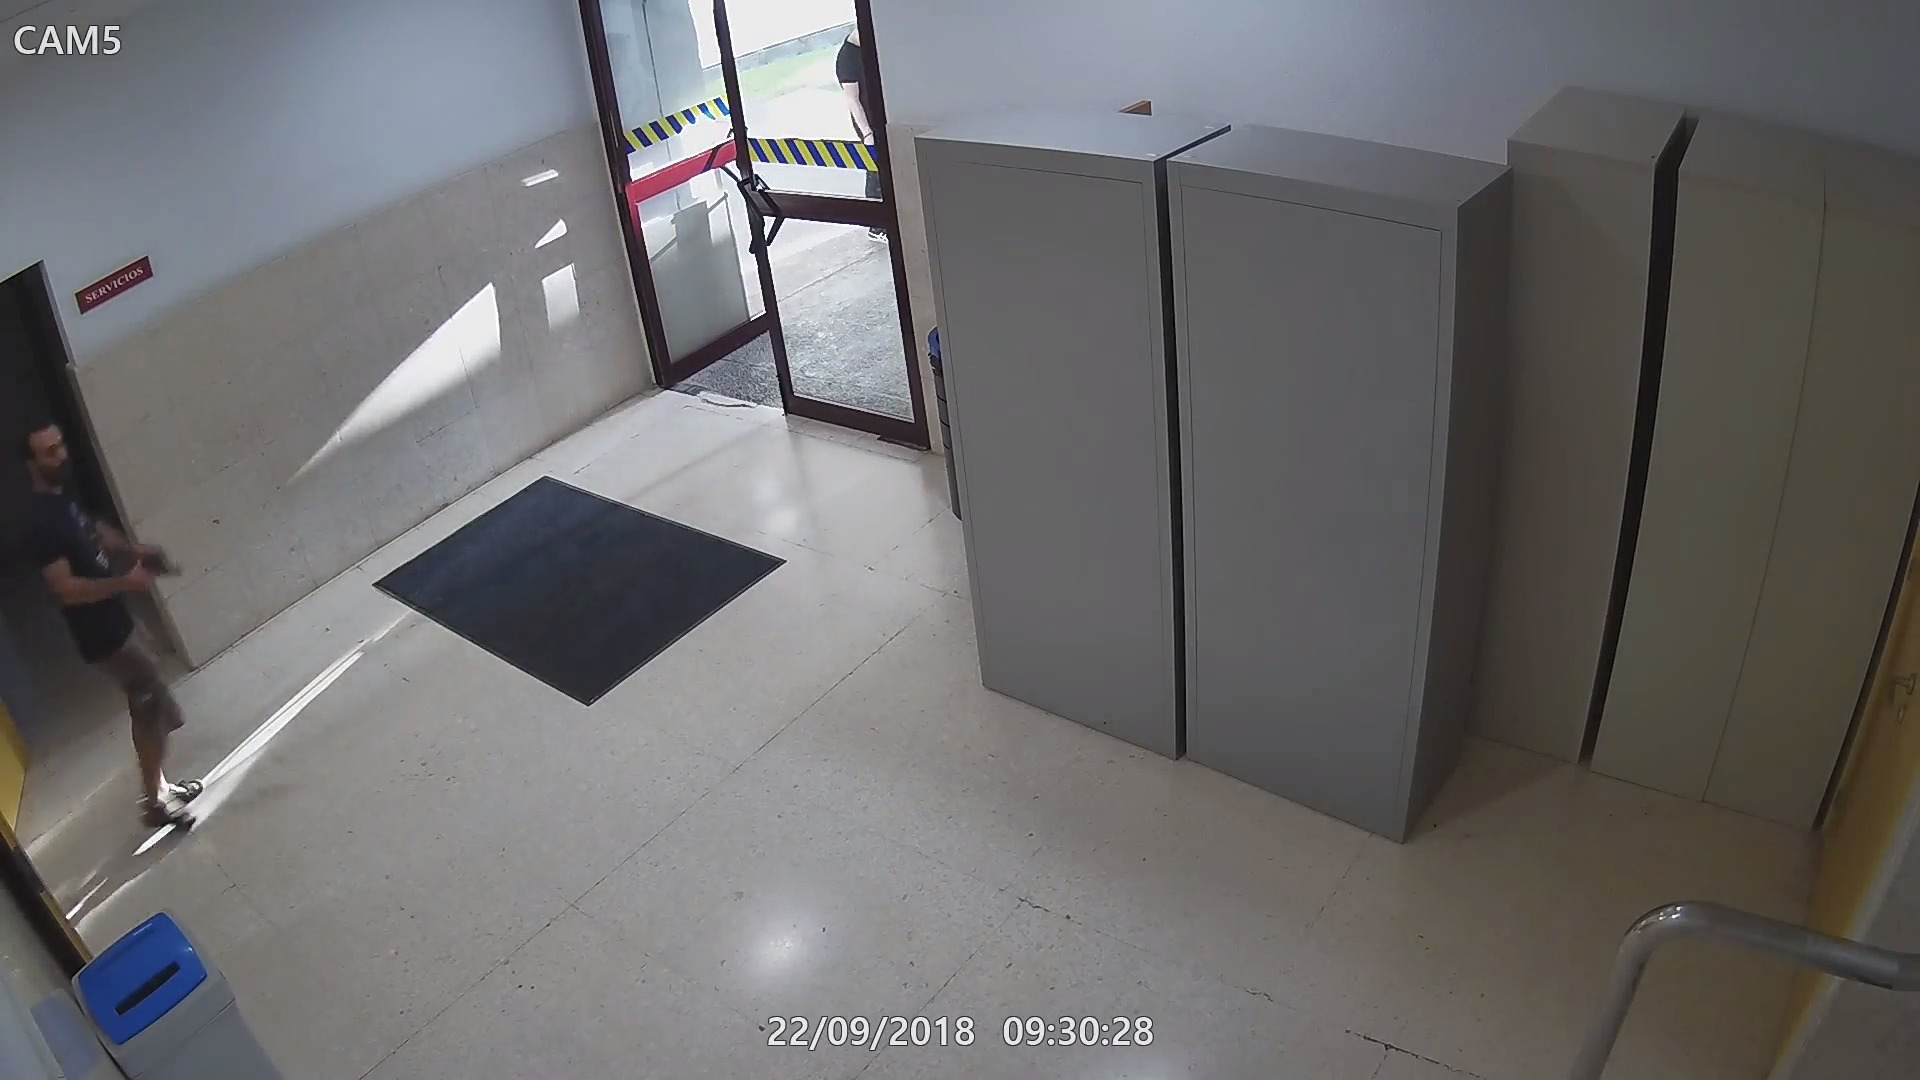Handgun: (117, 549, 182, 597)
